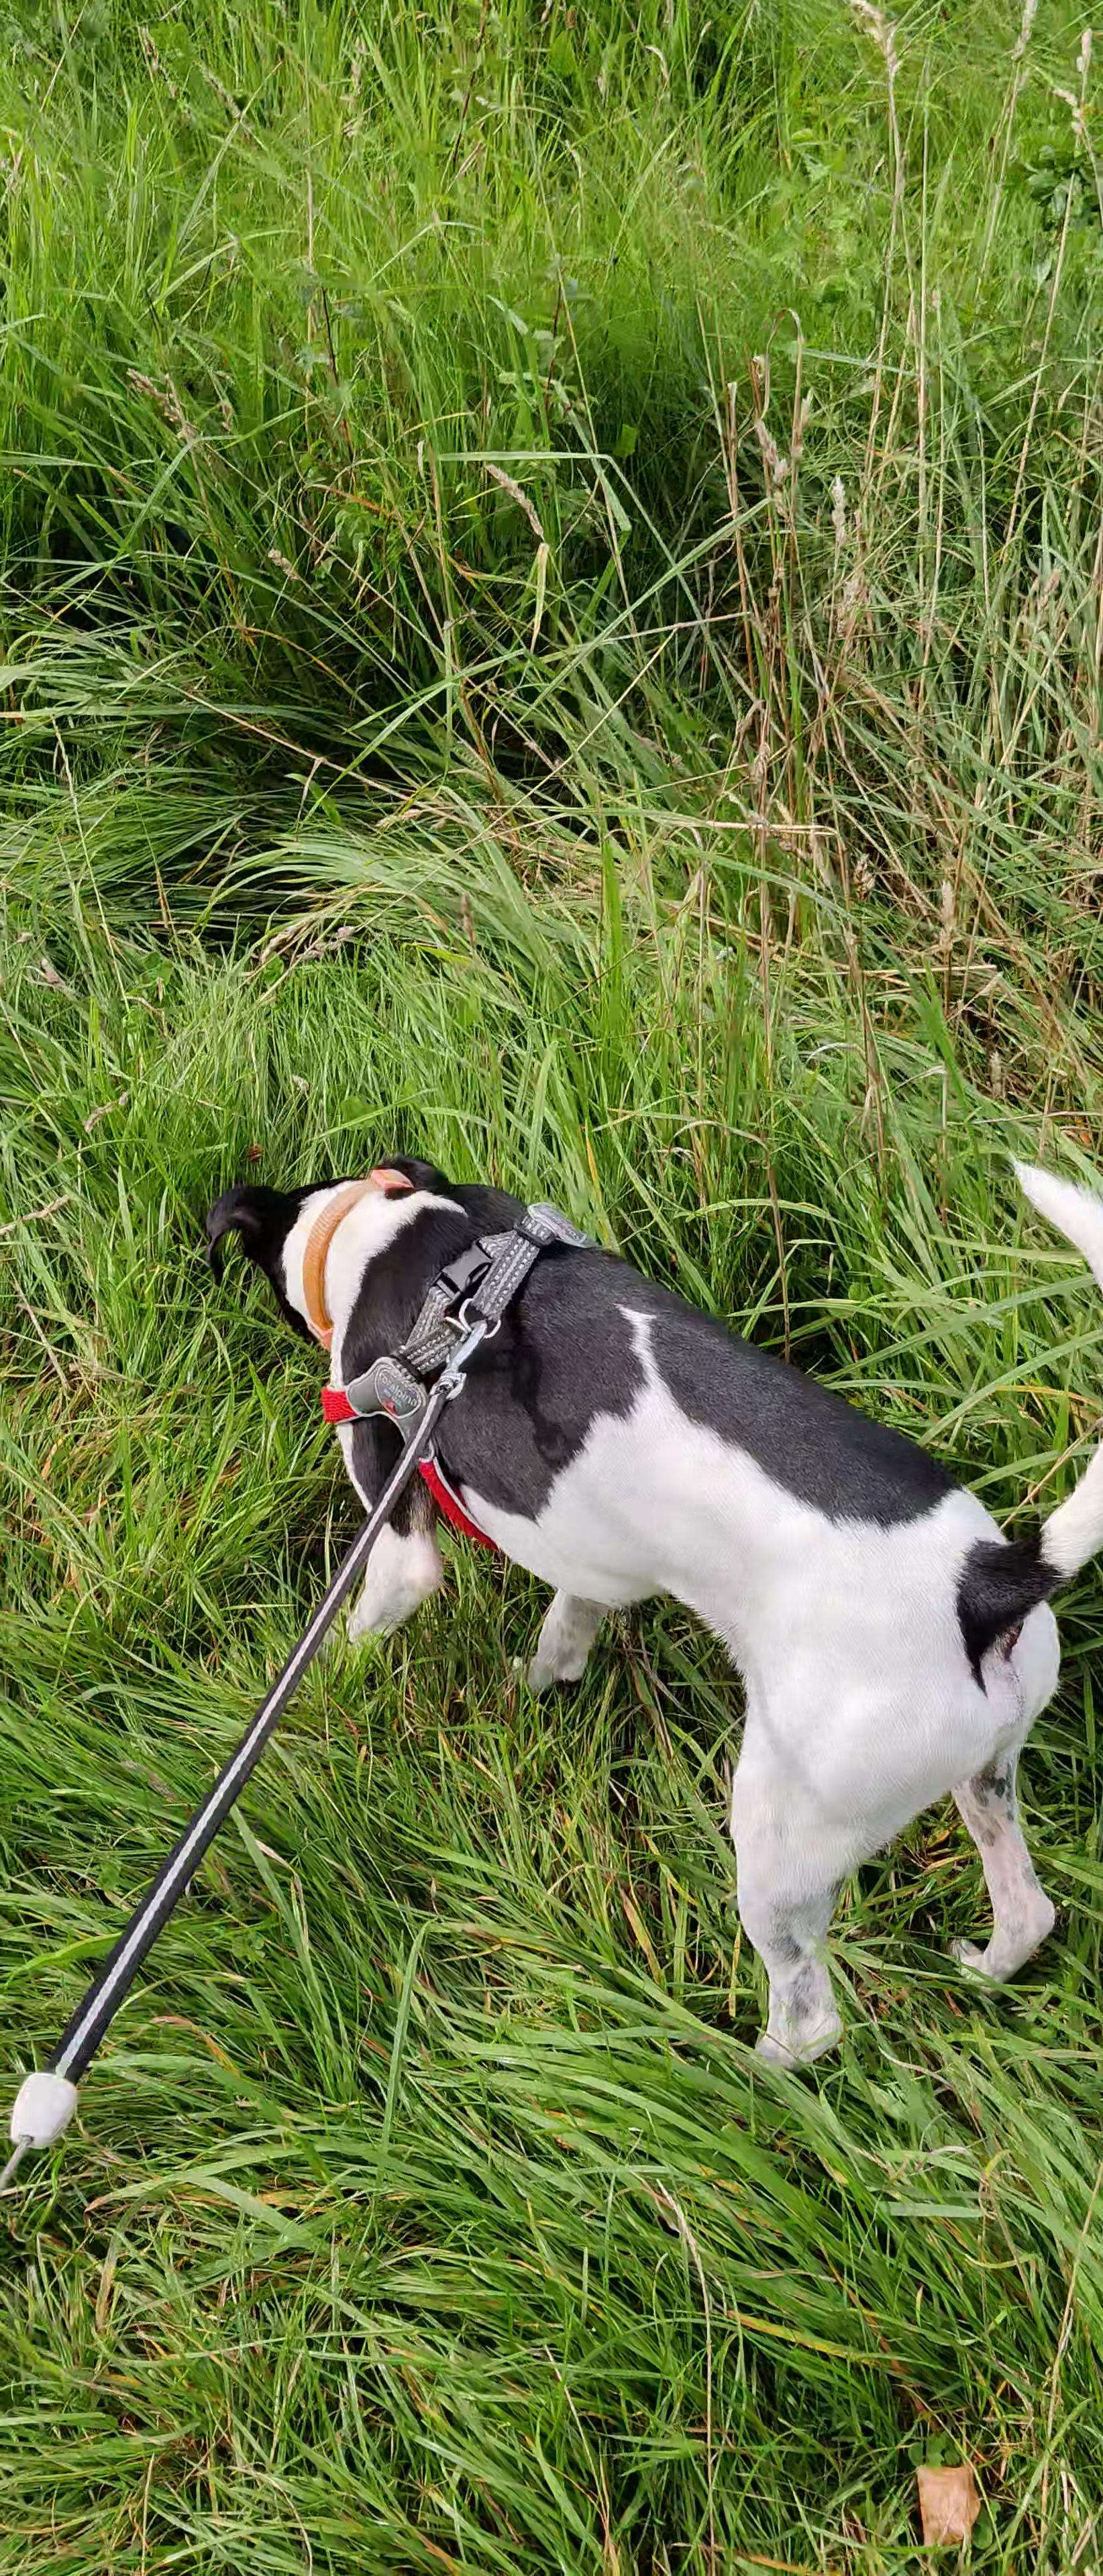Dog: (173, 1109, 1103, 2118)
